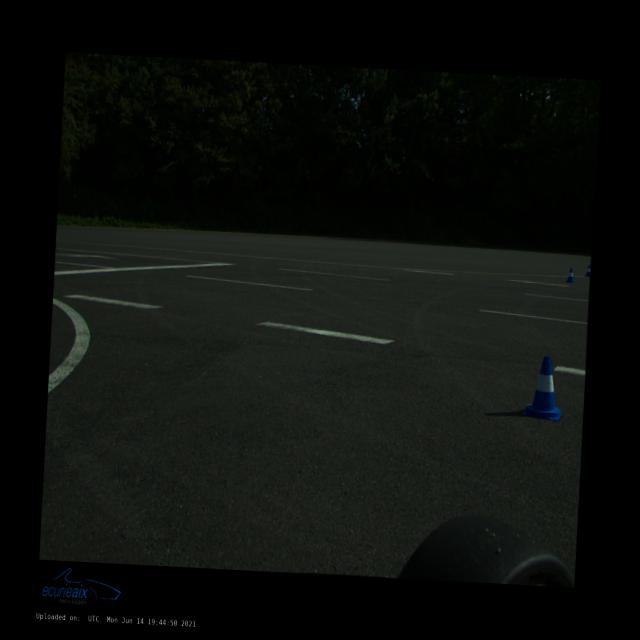blue_cone: (523, 356, 565, 420), (566, 268, 576, 283), (585, 264, 591, 276)
